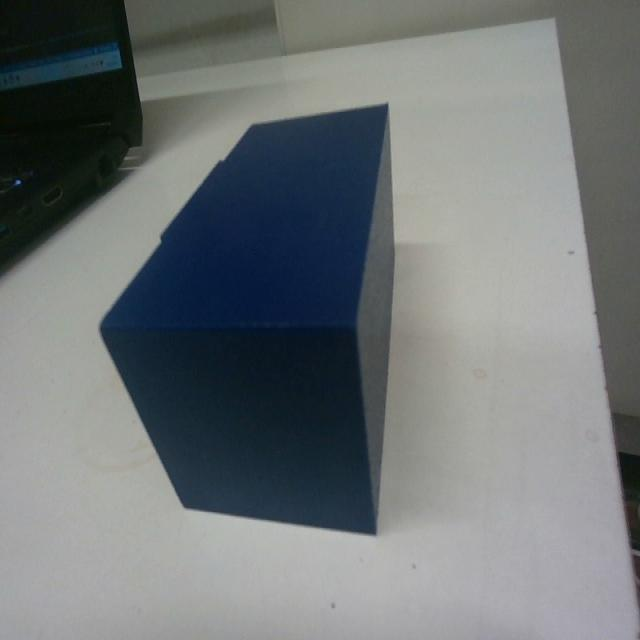Blue Cuboid: (98, 99, 398, 536)
